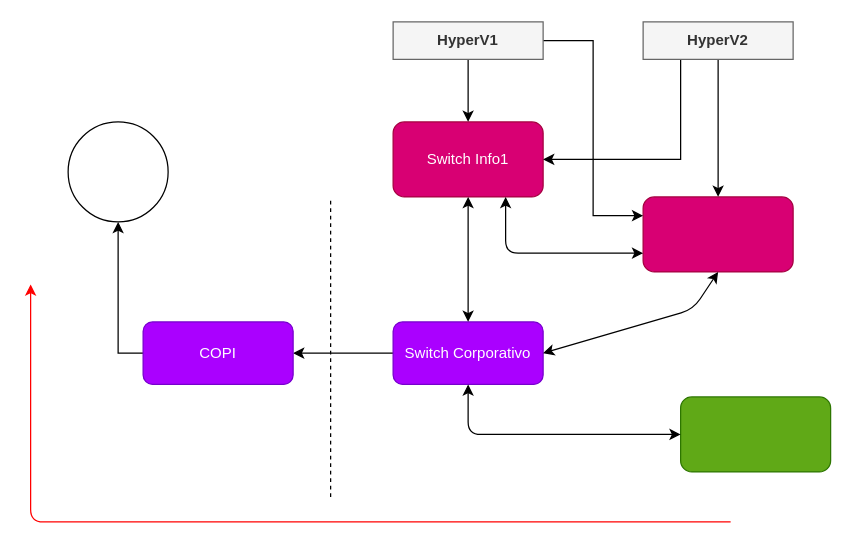
Some shapes in this 853 by 554 pixel diagram are drawn without their labels. Here are the shapes that lost their labels. From the top down, the centre of each, then its label:
At point 117,171: "Internet".
At point 717,234: "Switch Info2".
At point 755,434: "Desktop".
